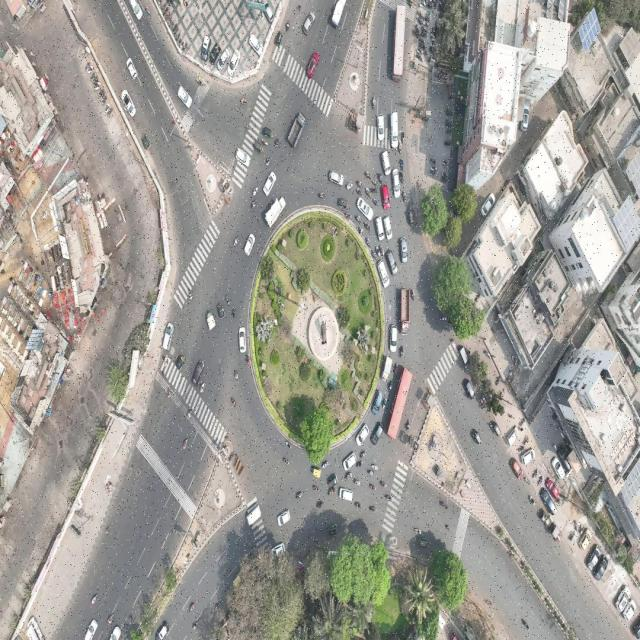3W: (463, 376, 475, 404), (214, 299, 225, 321), (471, 427, 483, 446), (174, 353, 186, 371), (250, 140, 264, 155), (326, 472, 339, 488), (327, 522, 339, 539), (416, 536, 430, 550), (140, 135, 152, 151), (274, 29, 283, 50), (309, 466, 323, 479), (491, 419, 501, 437), (262, 125, 274, 140), (337, 196, 349, 209)
Bus: (387, 365, 413, 451)
Cars: (615, 582, 631, 617), (539, 484, 557, 515), (119, 87, 136, 119), (354, 195, 374, 222), (480, 188, 496, 221), (233, 143, 252, 170), (377, 257, 390, 295), (354, 420, 371, 449), (177, 86, 195, 113), (550, 453, 566, 483), (226, 48, 241, 80), (191, 357, 205, 391), (162, 320, 175, 356), (593, 553, 609, 582), (520, 94, 531, 136), (370, 419, 384, 452), (622, 596, 637, 625), (262, 169, 277, 197), (127, 1, 146, 23), (544, 475, 560, 501), (588, 544, 602, 573), (305, 52, 319, 81), (385, 246, 398, 277), (248, 32, 264, 57), (206, 42, 222, 67), (199, 34, 211, 67), (125, 56, 139, 84), (389, 112, 399, 151), (302, 10, 315, 39), (327, 167, 344, 189), (342, 449, 358, 472), (216, 48, 230, 74), (519, 448, 538, 467), (276, 506, 294, 526), (266, 542, 288, 558), (506, 425, 521, 448), (84, 617, 99, 640), (153, 621, 171, 640), (237, 325, 247, 359), (509, 455, 522, 481), (373, 216, 386, 242), (242, 232, 255, 258), (379, 148, 391, 176), (371, 390, 383, 418), (579, 527, 592, 552), (379, 183, 390, 212), (389, 323, 399, 354), (376, 111, 386, 140), (383, 215, 394, 241), (398, 235, 408, 263), (458, 345, 469, 368), (393, 164, 400, 200), (340, 485, 354, 503), (108, 624, 121, 639)
LCV: (263, 192, 288, 230), (245, 504, 264, 528), (381, 354, 392, 383), (205, 309, 216, 334)
M2W: (440, 499, 450, 511), (369, 503, 378, 515), (250, 197, 257, 212), (521, 435, 529, 448), (106, 613, 114, 626), (398, 138, 404, 155), (327, 487, 337, 497), (528, 493, 535, 507), (231, 308, 238, 322), (312, 482, 320, 494), (315, 498, 323, 510), (91, 594, 98, 607), (285, 438, 292, 451), (360, 449, 367, 462), (265, 155, 272, 168), (376, 170, 383, 183), (199, 382, 205, 397), (167, 385, 173, 400), (401, 189, 407, 204), (189, 602, 196, 614), (356, 460, 363, 472), (533, 468, 539, 482), (234, 369, 240, 383), (252, 186, 259, 198), (274, 137, 281, 149), (379, 479, 388, 488), (413, 526, 422, 535), (344, 212, 353, 221), (322, 460, 330, 470), (393, 361, 398, 377), (243, 122, 251, 132), (537, 475, 543, 488), (244, 353, 250, 366), (182, 438, 188, 451), (296, 489, 303, 500), (369, 482, 376, 493), (193, 621, 199, 633), (354, 500, 362, 509), (353, 478, 361, 487), (445, 522, 451, 534), (524, 475, 530, 487), (187, 289, 193, 301), (233, 235, 239, 247), (354, 214, 362, 223), (371, 249, 377, 261), (370, 185, 378, 194), (345, 471, 352, 481), (231, 398, 238, 408), (365, 170, 372, 180), (364, 221, 371, 231), (368, 467, 374, 478), (405, 419, 410, 432), (187, 407, 192, 420), (282, 457, 289, 466), (384, 492, 391, 501), (239, 98, 248, 105), (261, 138, 268, 147), (445, 118, 452, 127), (512, 354, 517, 366), (399, 161, 405, 171), (400, 170, 404, 185), (359, 227, 365, 237), (375, 247, 381, 257), (379, 245, 385, 255), (370, 464, 378, 471), (106, 523, 110, 537), (355, 188, 363, 195), (372, 96, 376, 110), (445, 108, 453, 115), (225, 293, 230, 304), (365, 186, 370, 197), (439, 176, 448, 182), (383, 396, 387, 409), (388, 382, 392, 395), (399, 346, 403, 359), (373, 196, 378, 206), (346, 183, 353, 190), (356, 180, 363, 187), (428, 169, 435, 176), (318, 193, 326, 199), (448, 92, 454, 100), (443, 159, 449, 166), (441, 171, 448, 177), (430, 158, 436, 165), (367, 237, 370, 249), (412, 289, 415, 301), (444, 141, 450, 147), (373, 178, 377, 186)
Truck: (288, 111, 305, 152), (400, 286, 412, 338)
